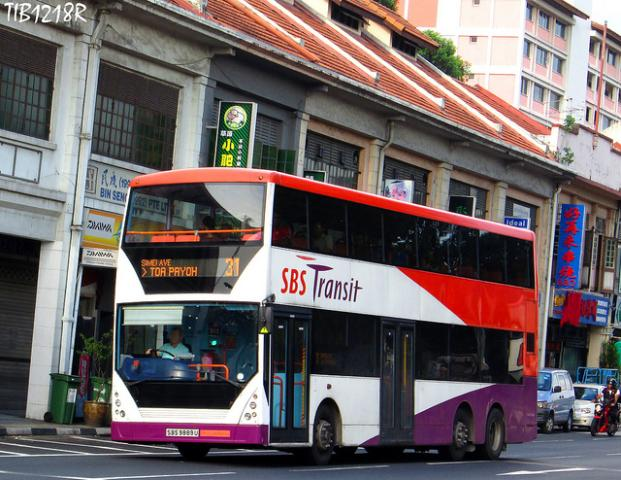bus: (112, 168, 537, 465)
car: (538, 367, 578, 431), (573, 384, 606, 427)
motorcycle: (590, 398, 621, 436)
truck: (538, 370, 575, 434)
